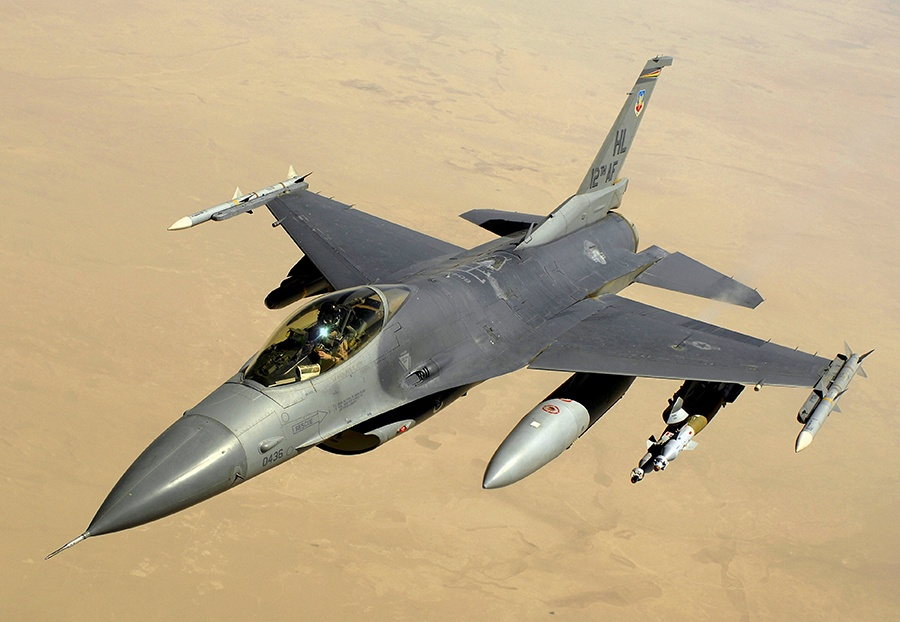airplane: (40, 50, 874, 567)
